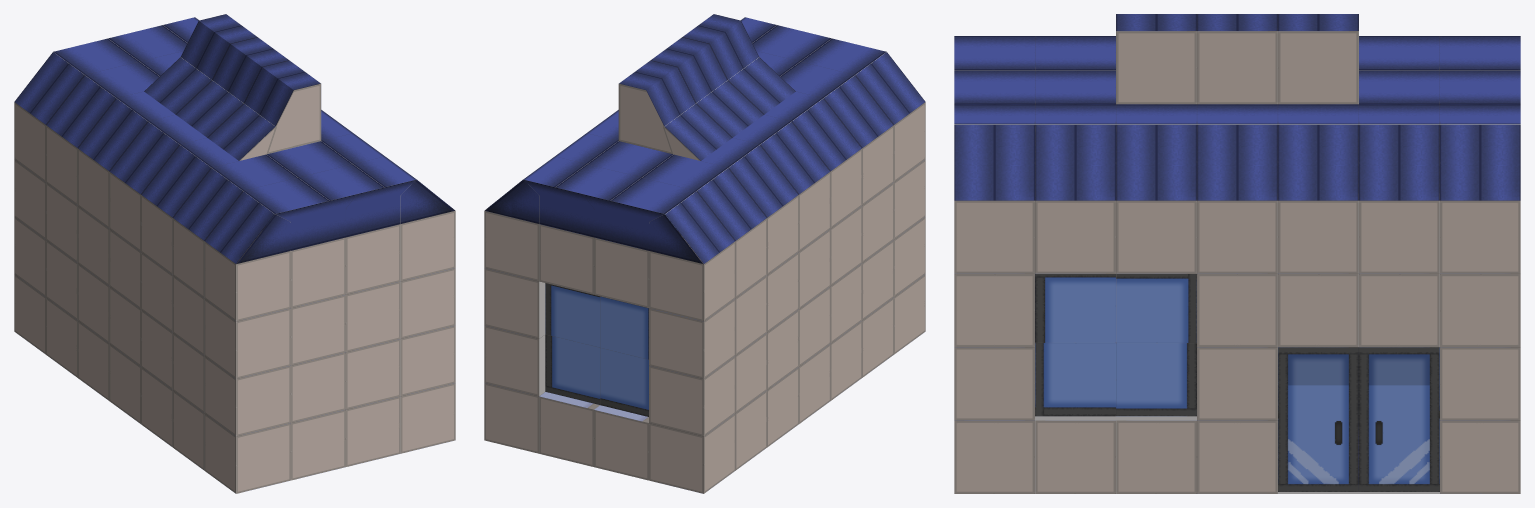
File: post_office.dae
3 renders of one model, left to right at view 1: azimuth 30°, elevation 25°; view 2: azimuth 150°, elevation 25°; view 3: azimuth 270°, elevation 25°, orthographic. The views are drawn at different scales.
Visible parts, largest first — view 1: Cube; view 2: Cube; view 3: Cube.
Boxes of the visible parts, x1,y1,x2,y2 form: Cube: (14,14,455,493); Cube: (484,14,925,493); Cube: (954,14,1520,493).
Bounding box in the file's own units: 8 × 14 × 11.41.
1 material, 1 textured.
